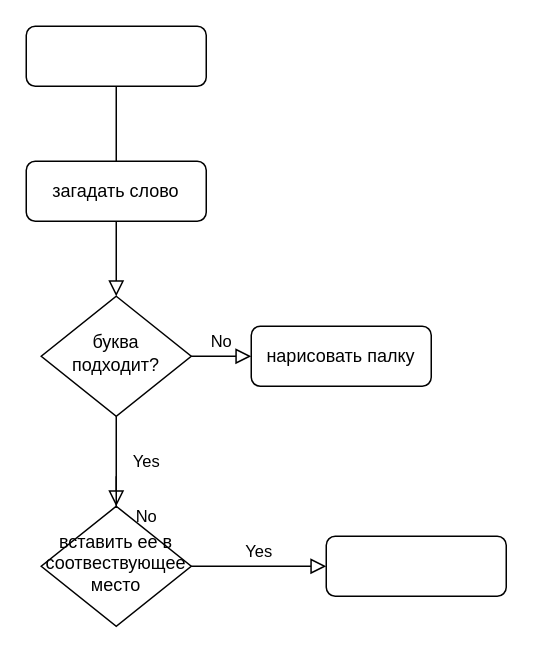
Some shapes in this 533 by 653 pixel diagram are drawn without their labels. Here are the shapes that lost their labels. From the top down, the centre of each, then its label:
At (x=115, y=55): "старт".
At (x=415, y=565): "Replace Bulb".
